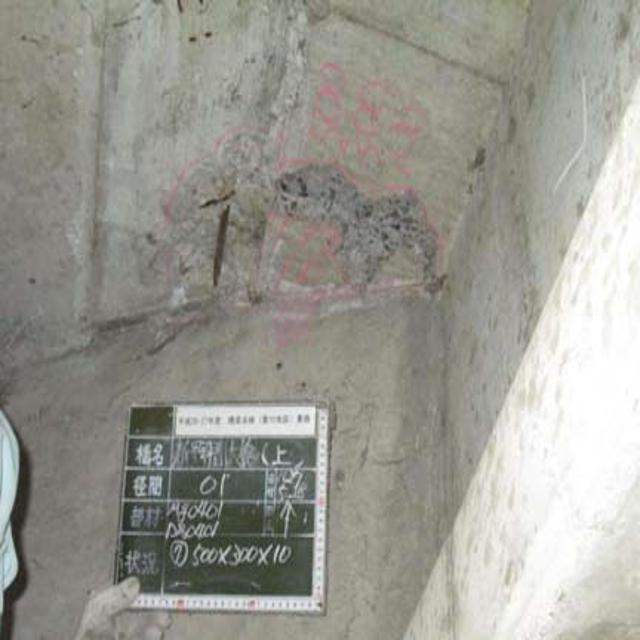spalling: (160, 137, 446, 312)
